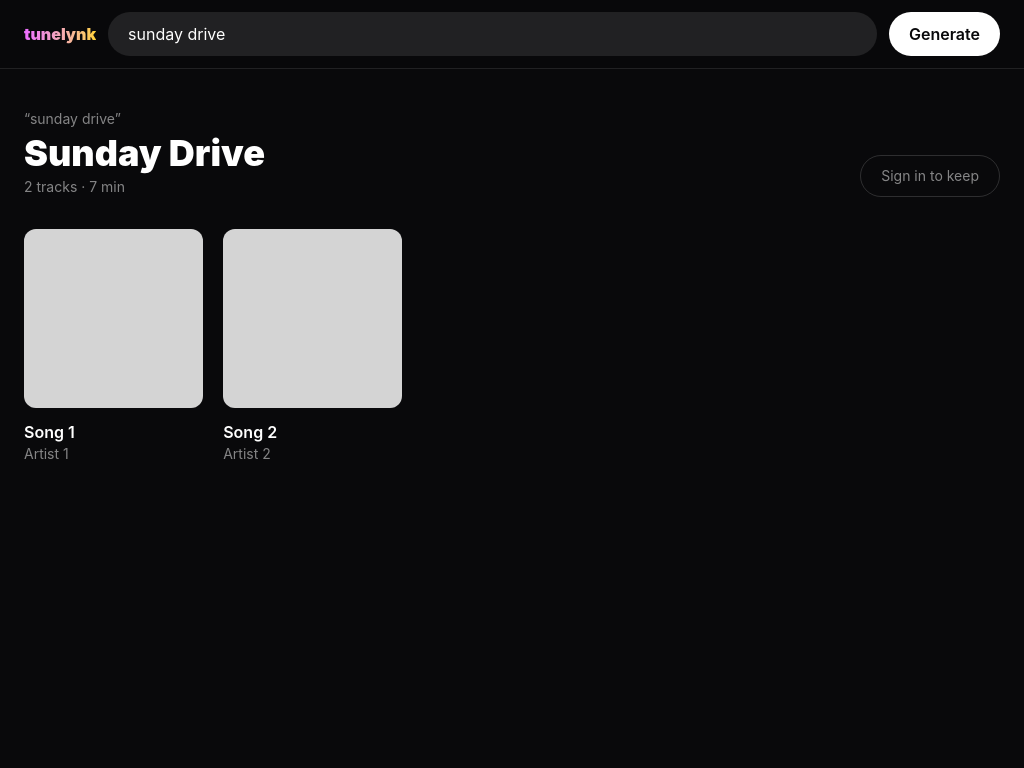
Test: RunView › explains a preview that can't play and marks its tile
This screenshot has width=1024, height=768.
Click the button with aria-label "Play Song 1 by Artist 1".
click(114, 347)  # box [24,229,203,464]
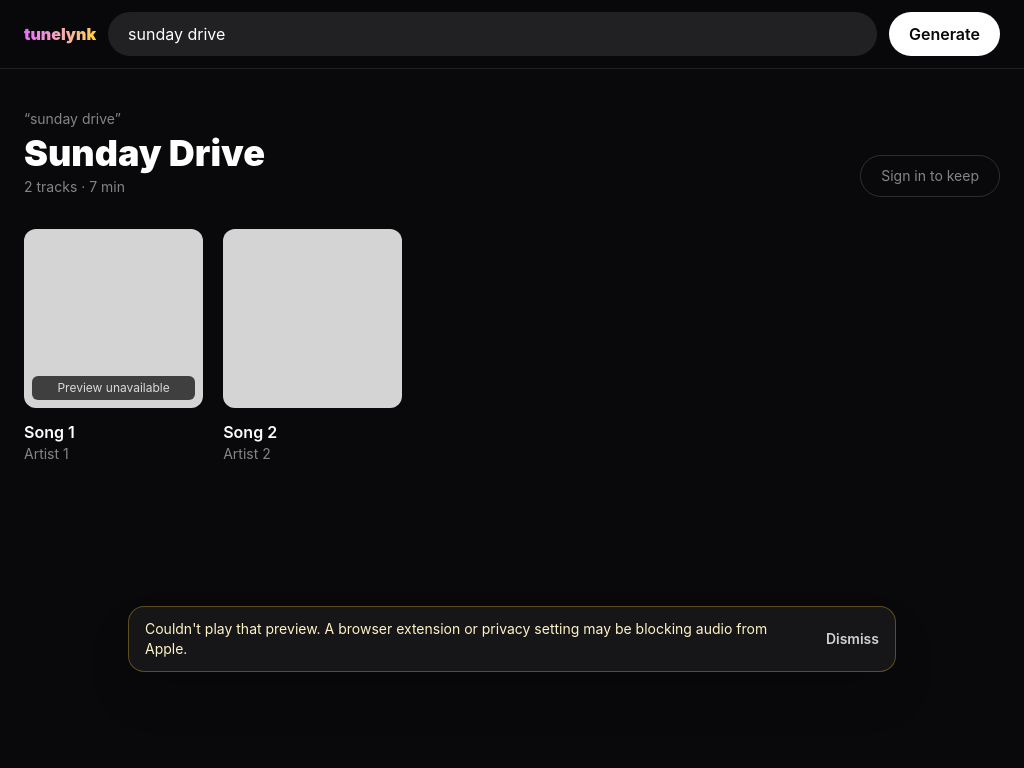
Expected: the message shows "Couldn't play that preview.", [145,620,767,657]
Click the button "Dismiss".
click(852, 639)  # box [826,629,879,649]
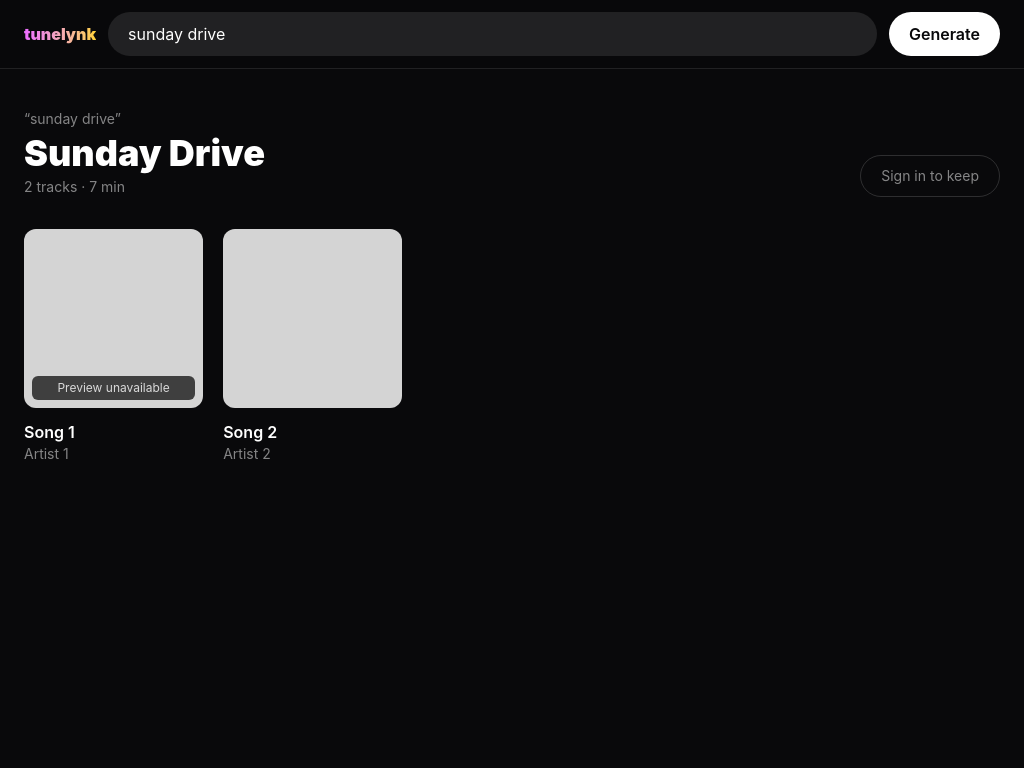
Expected: the message is gone
